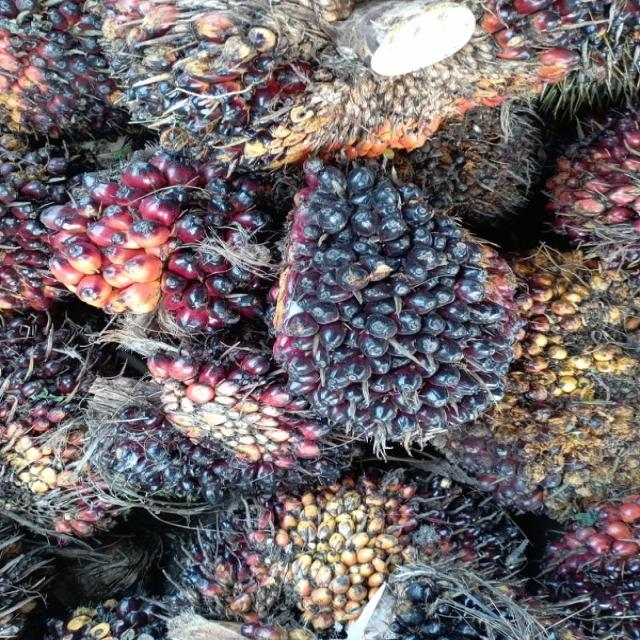fraksi 00: (274, 177, 544, 437)
fraksi 1: (32, 140, 270, 345)
